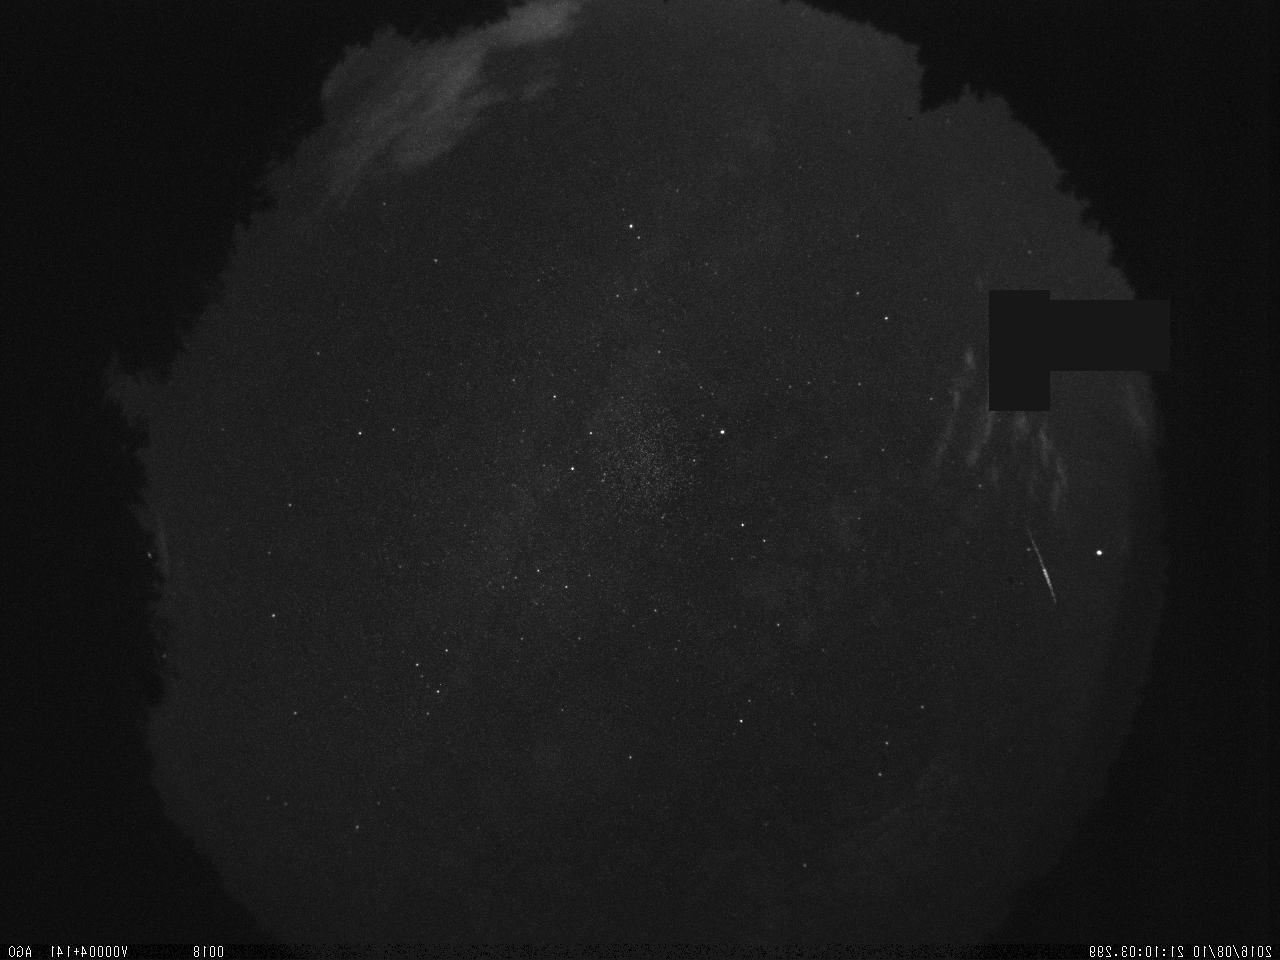meteor: (1015, 507, 1066, 612)
